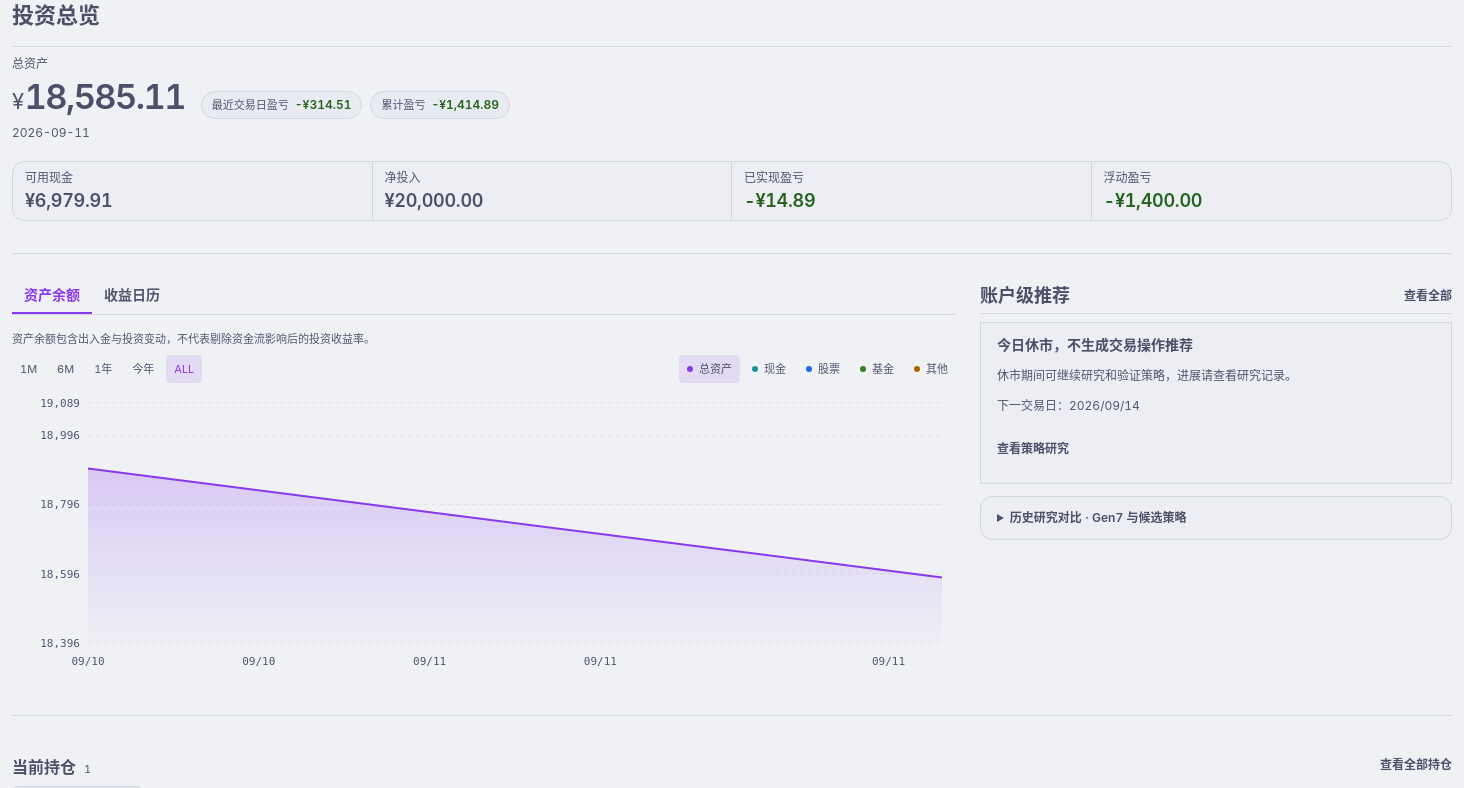
Test: keeps cached historical research inspectable during closure while hiding cached account actions
Expected: the element with test id "overview-recommendation-market-closed" is shown, [980,322,1452,484]
What coordinates should you click on to do the following:
click the heading "历史研究对比 · Gen7 与候选策略"
I would click on:
 (1098, 518)
Its box is [1010,510,1186,525].
(page scrolled)
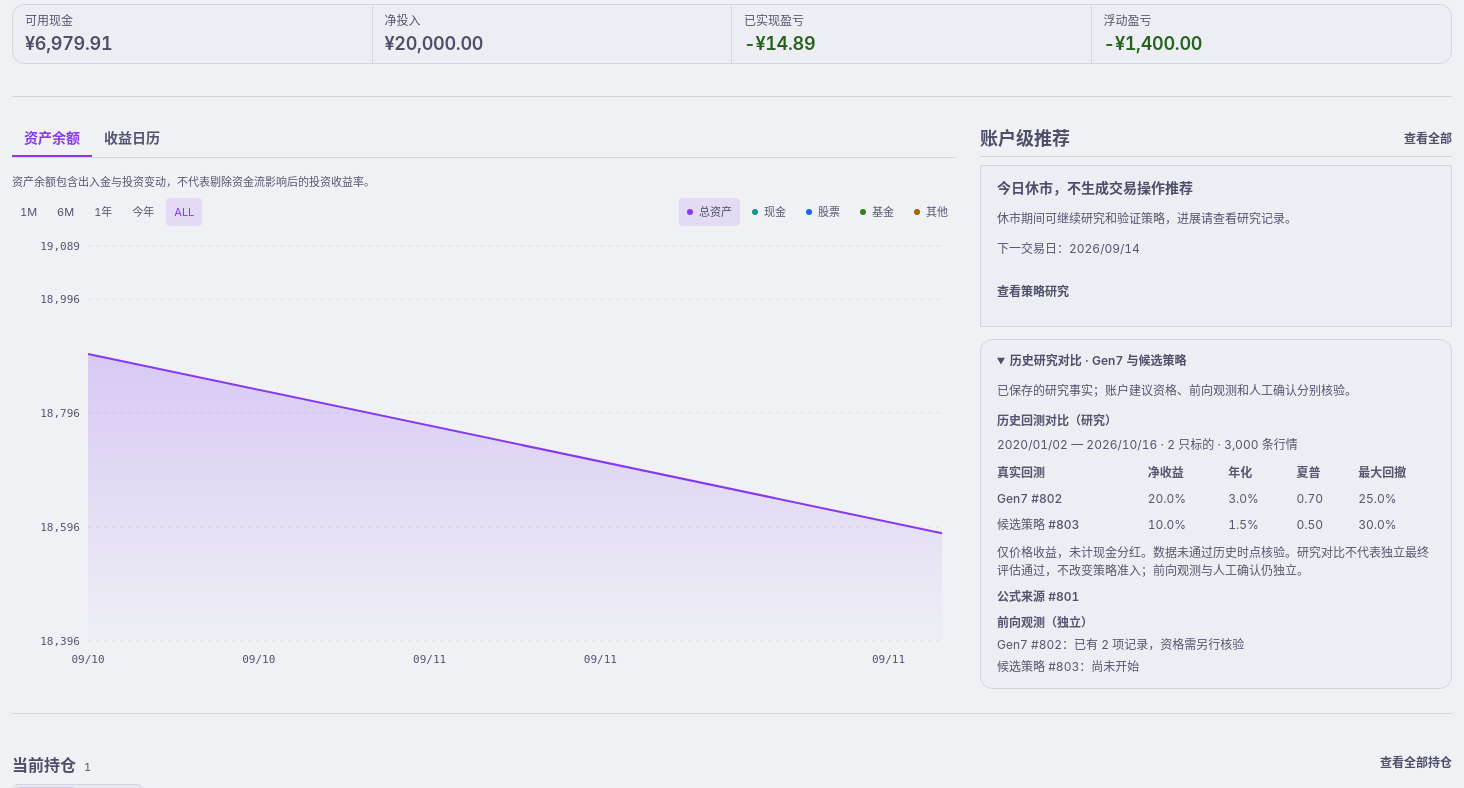
Expected: the element with test id "overview-strategy-recommendation" shows "今日休市", [997,179,1193,196]
Expected: the table is shown, [997,460,1435,538]
